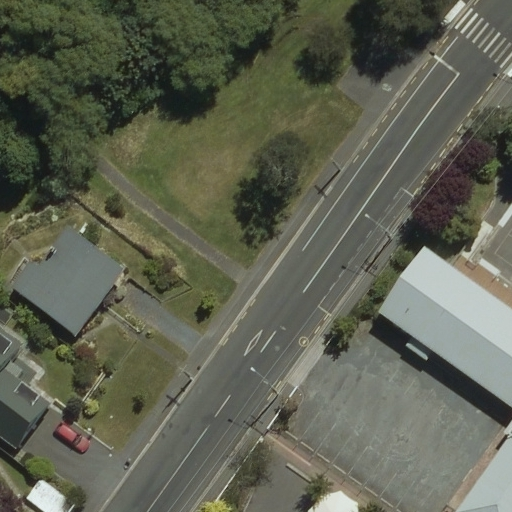DT: (242, 358, 293, 413), (356, 206, 404, 250)
